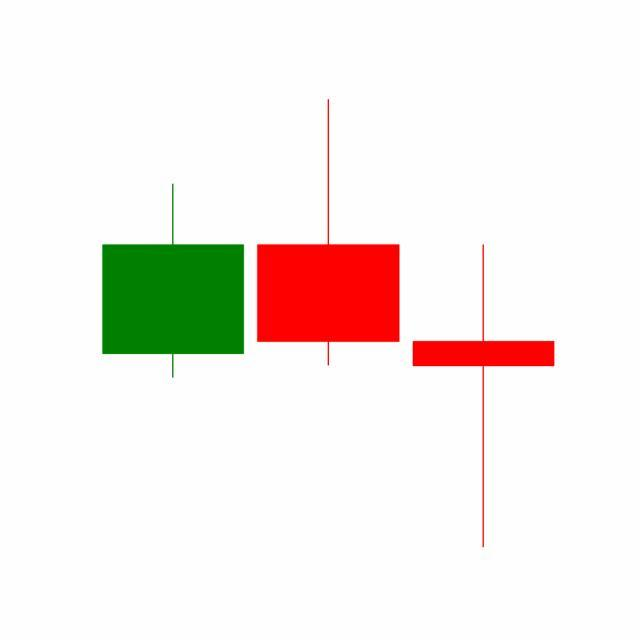Spinning Top: (406, 241, 562, 551)
